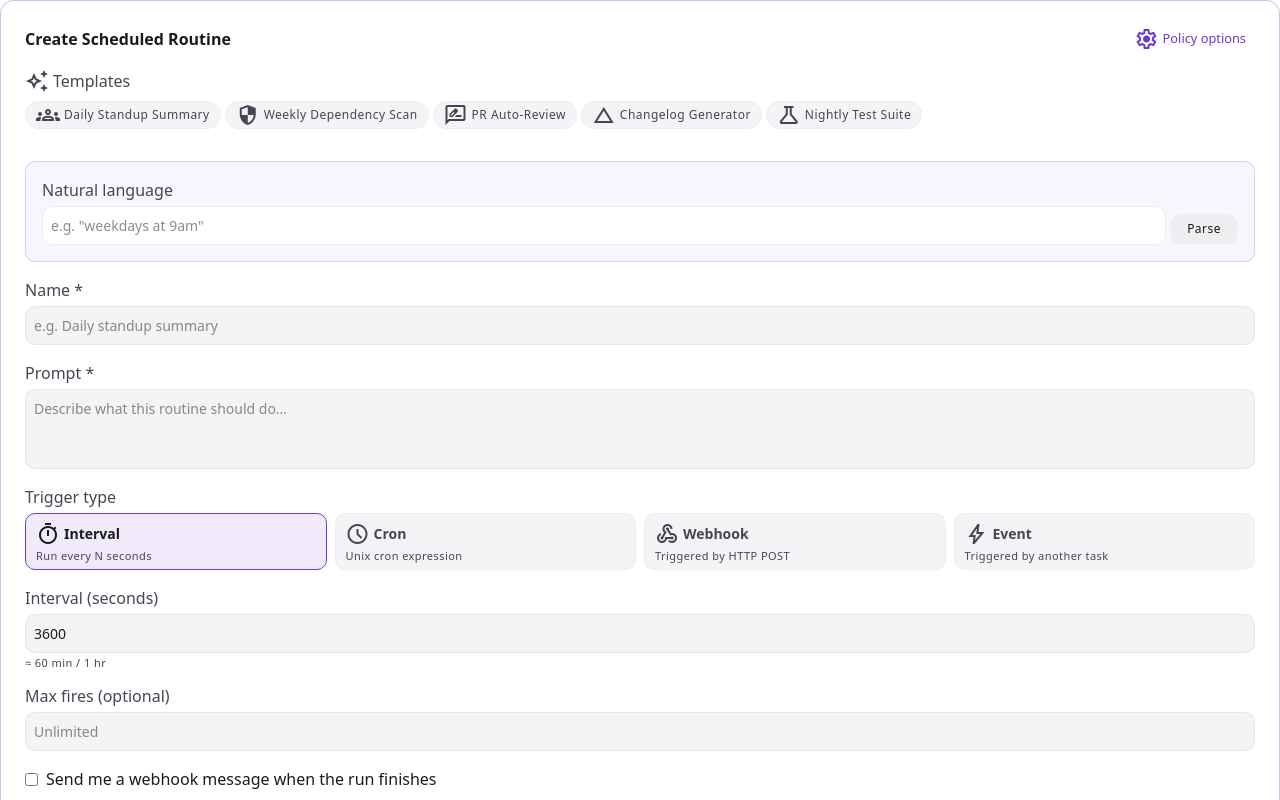
Test case: ScheduleForm NL cron (P3.1) › shows error for unparseable phrase
Click the text "Cron" at (390,534), box x1=374 y1=524 x2=406 y2=544
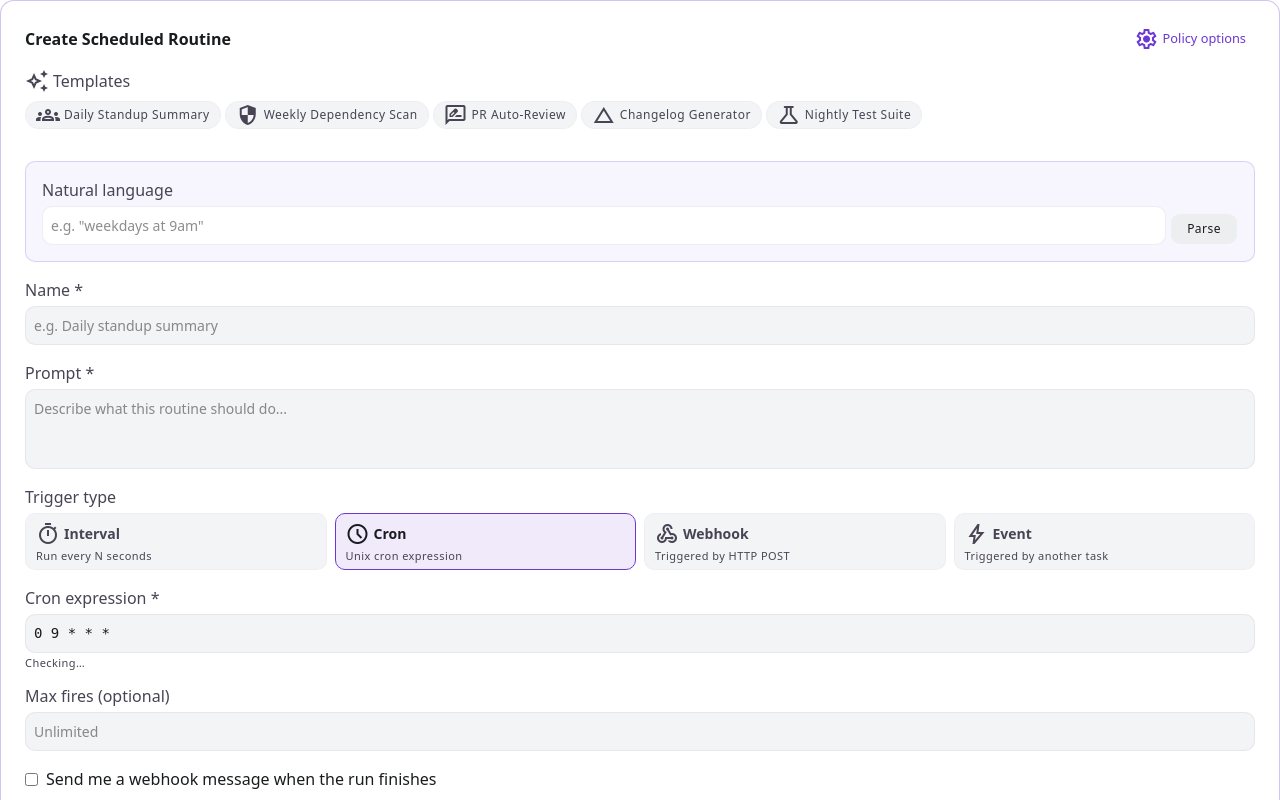
Type "do the thing" into the field named "Natural language cron input" at (604,226), box x1=42 y1=206 x2=1166 y2=245
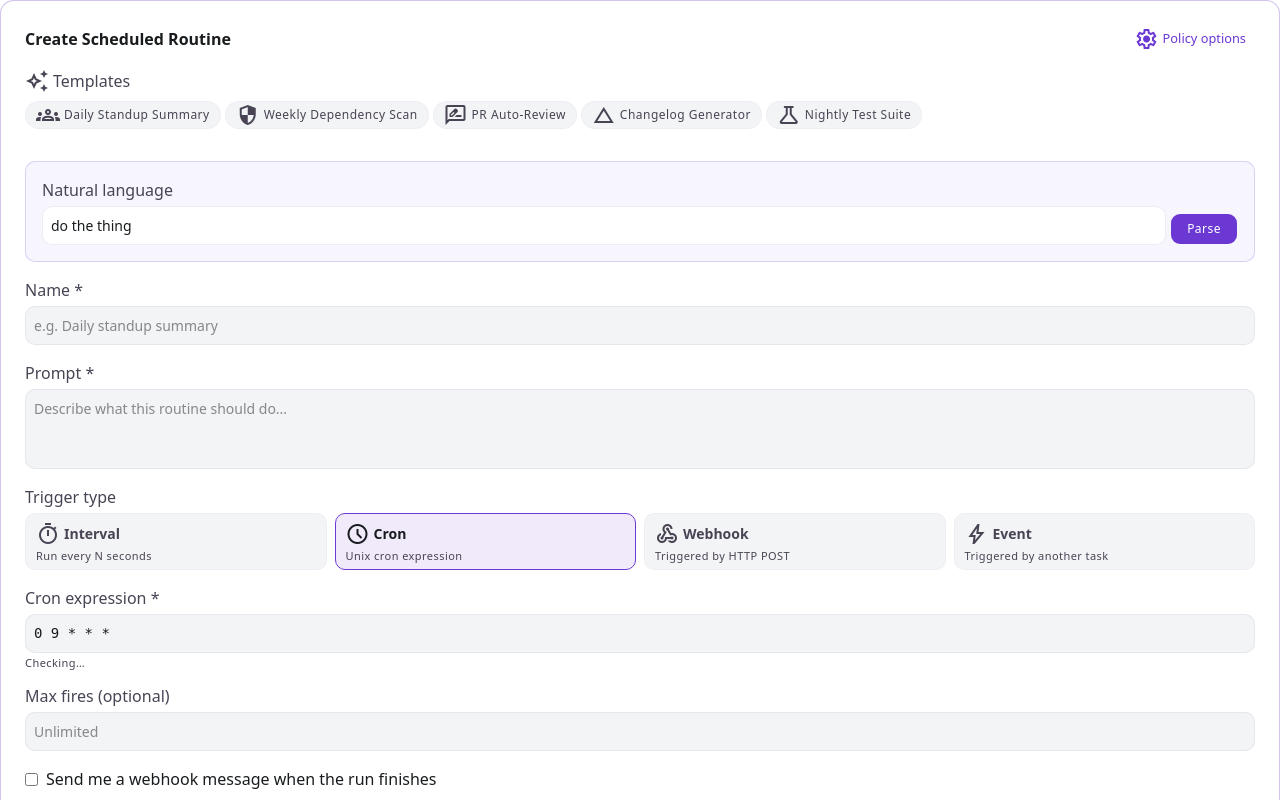
Click the button "Parse" at (1204,229), box x1=1170 y1=213 x2=1238 y2=245
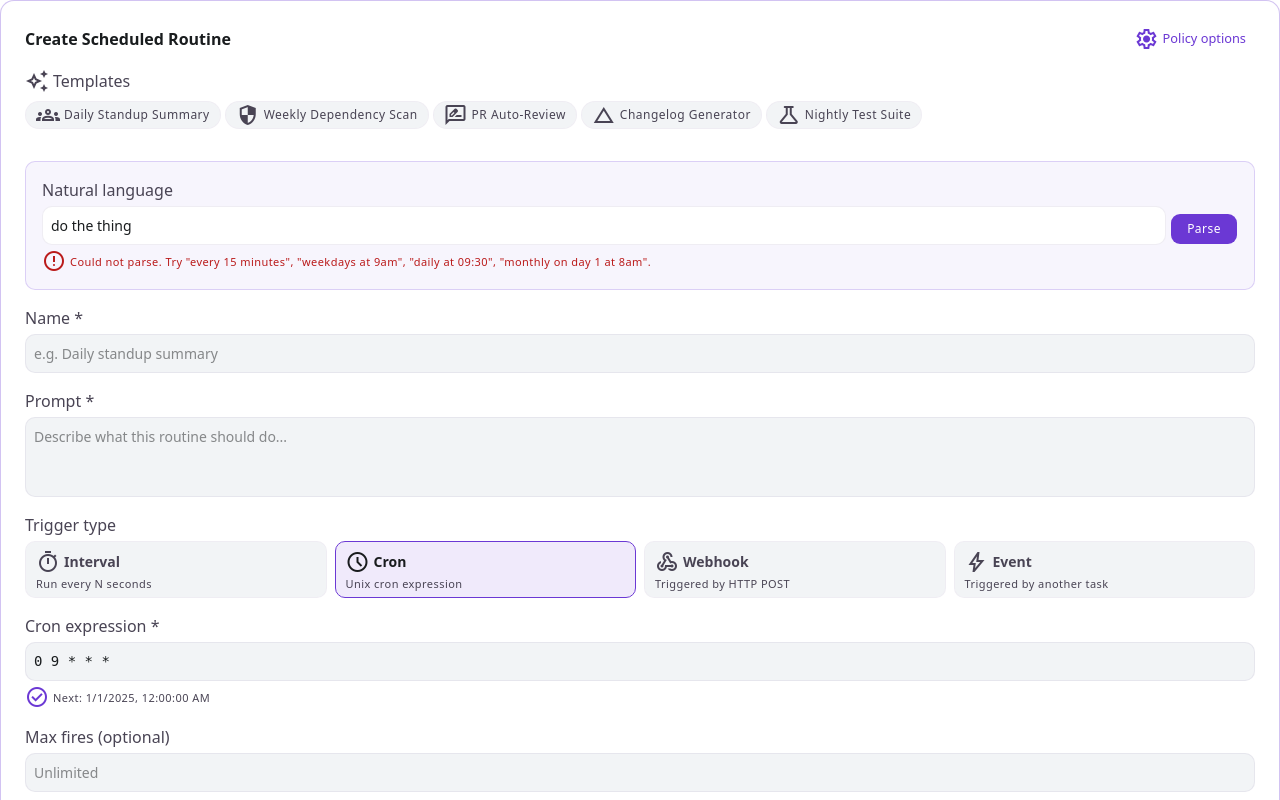
Expected: the text "Could not parse" is shown, x1=70 y1=254 x2=651 y2=268
